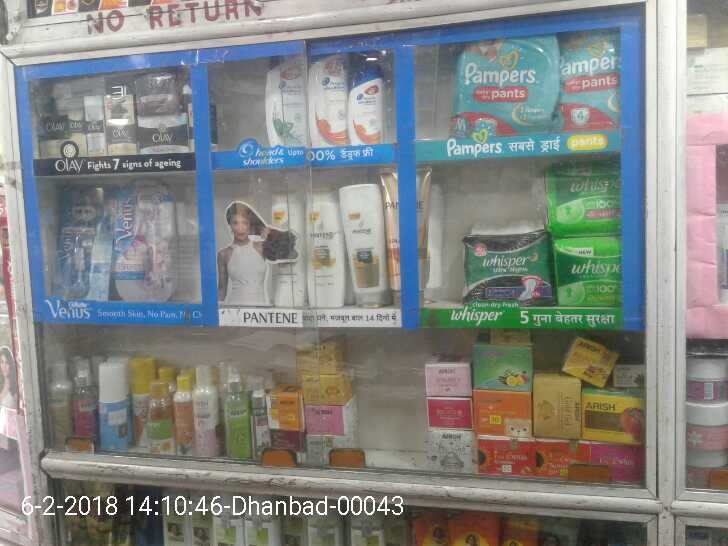venus: (114, 178, 174, 300), (57, 185, 114, 300)
